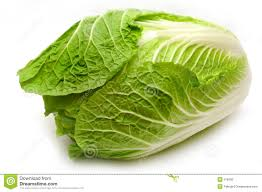cabbage: (25, 21, 254, 160)
